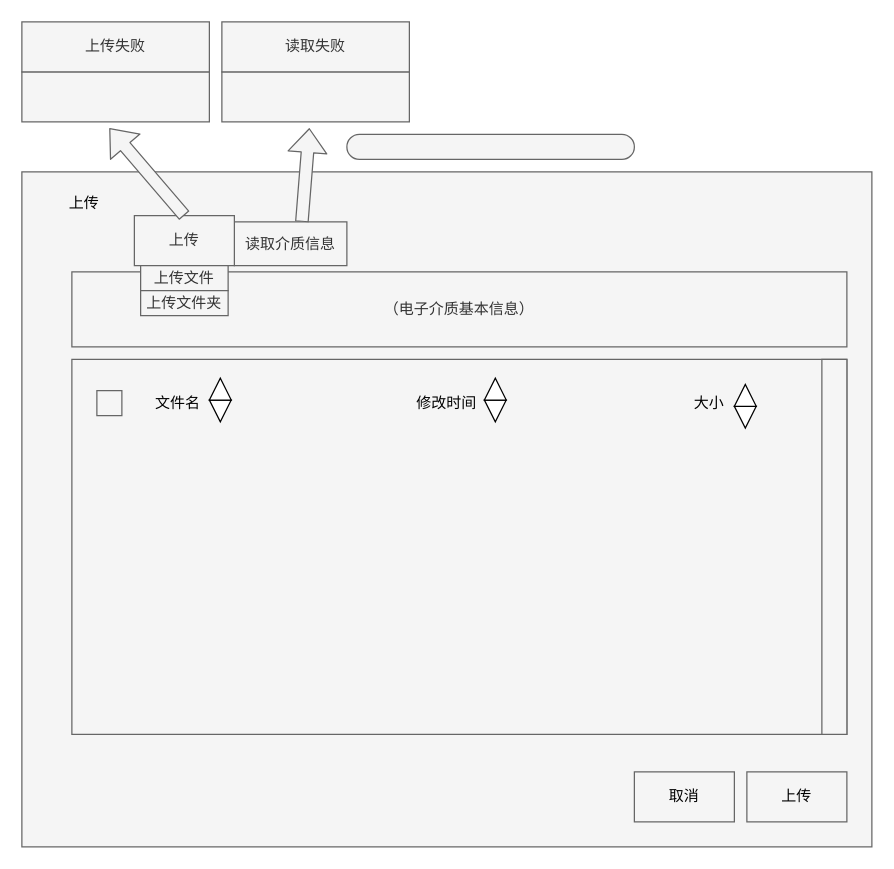
Image size: 894x869. Some labels were removed from this diagram. Each missing label, with the centre of its shape:
"上传成功" goes at pixel 115 96.
"上传进度" goes at pixel 490 146.
"读取成功" goes at pixel 315 96.
